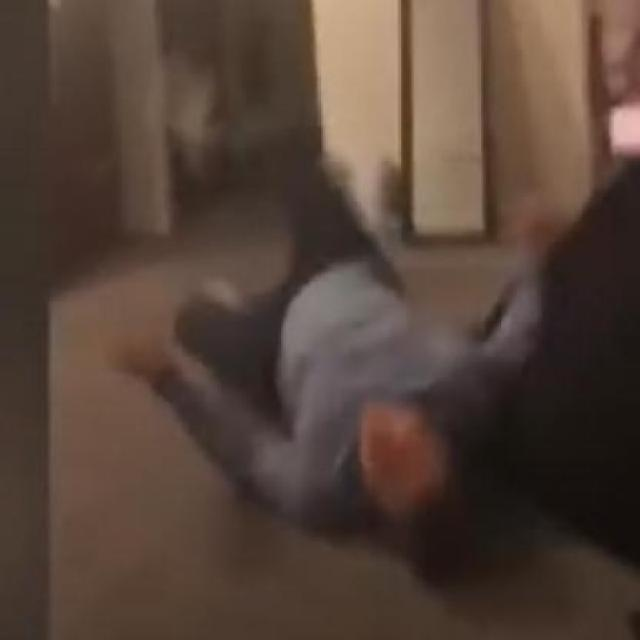fall: (108, 162, 541, 566)
